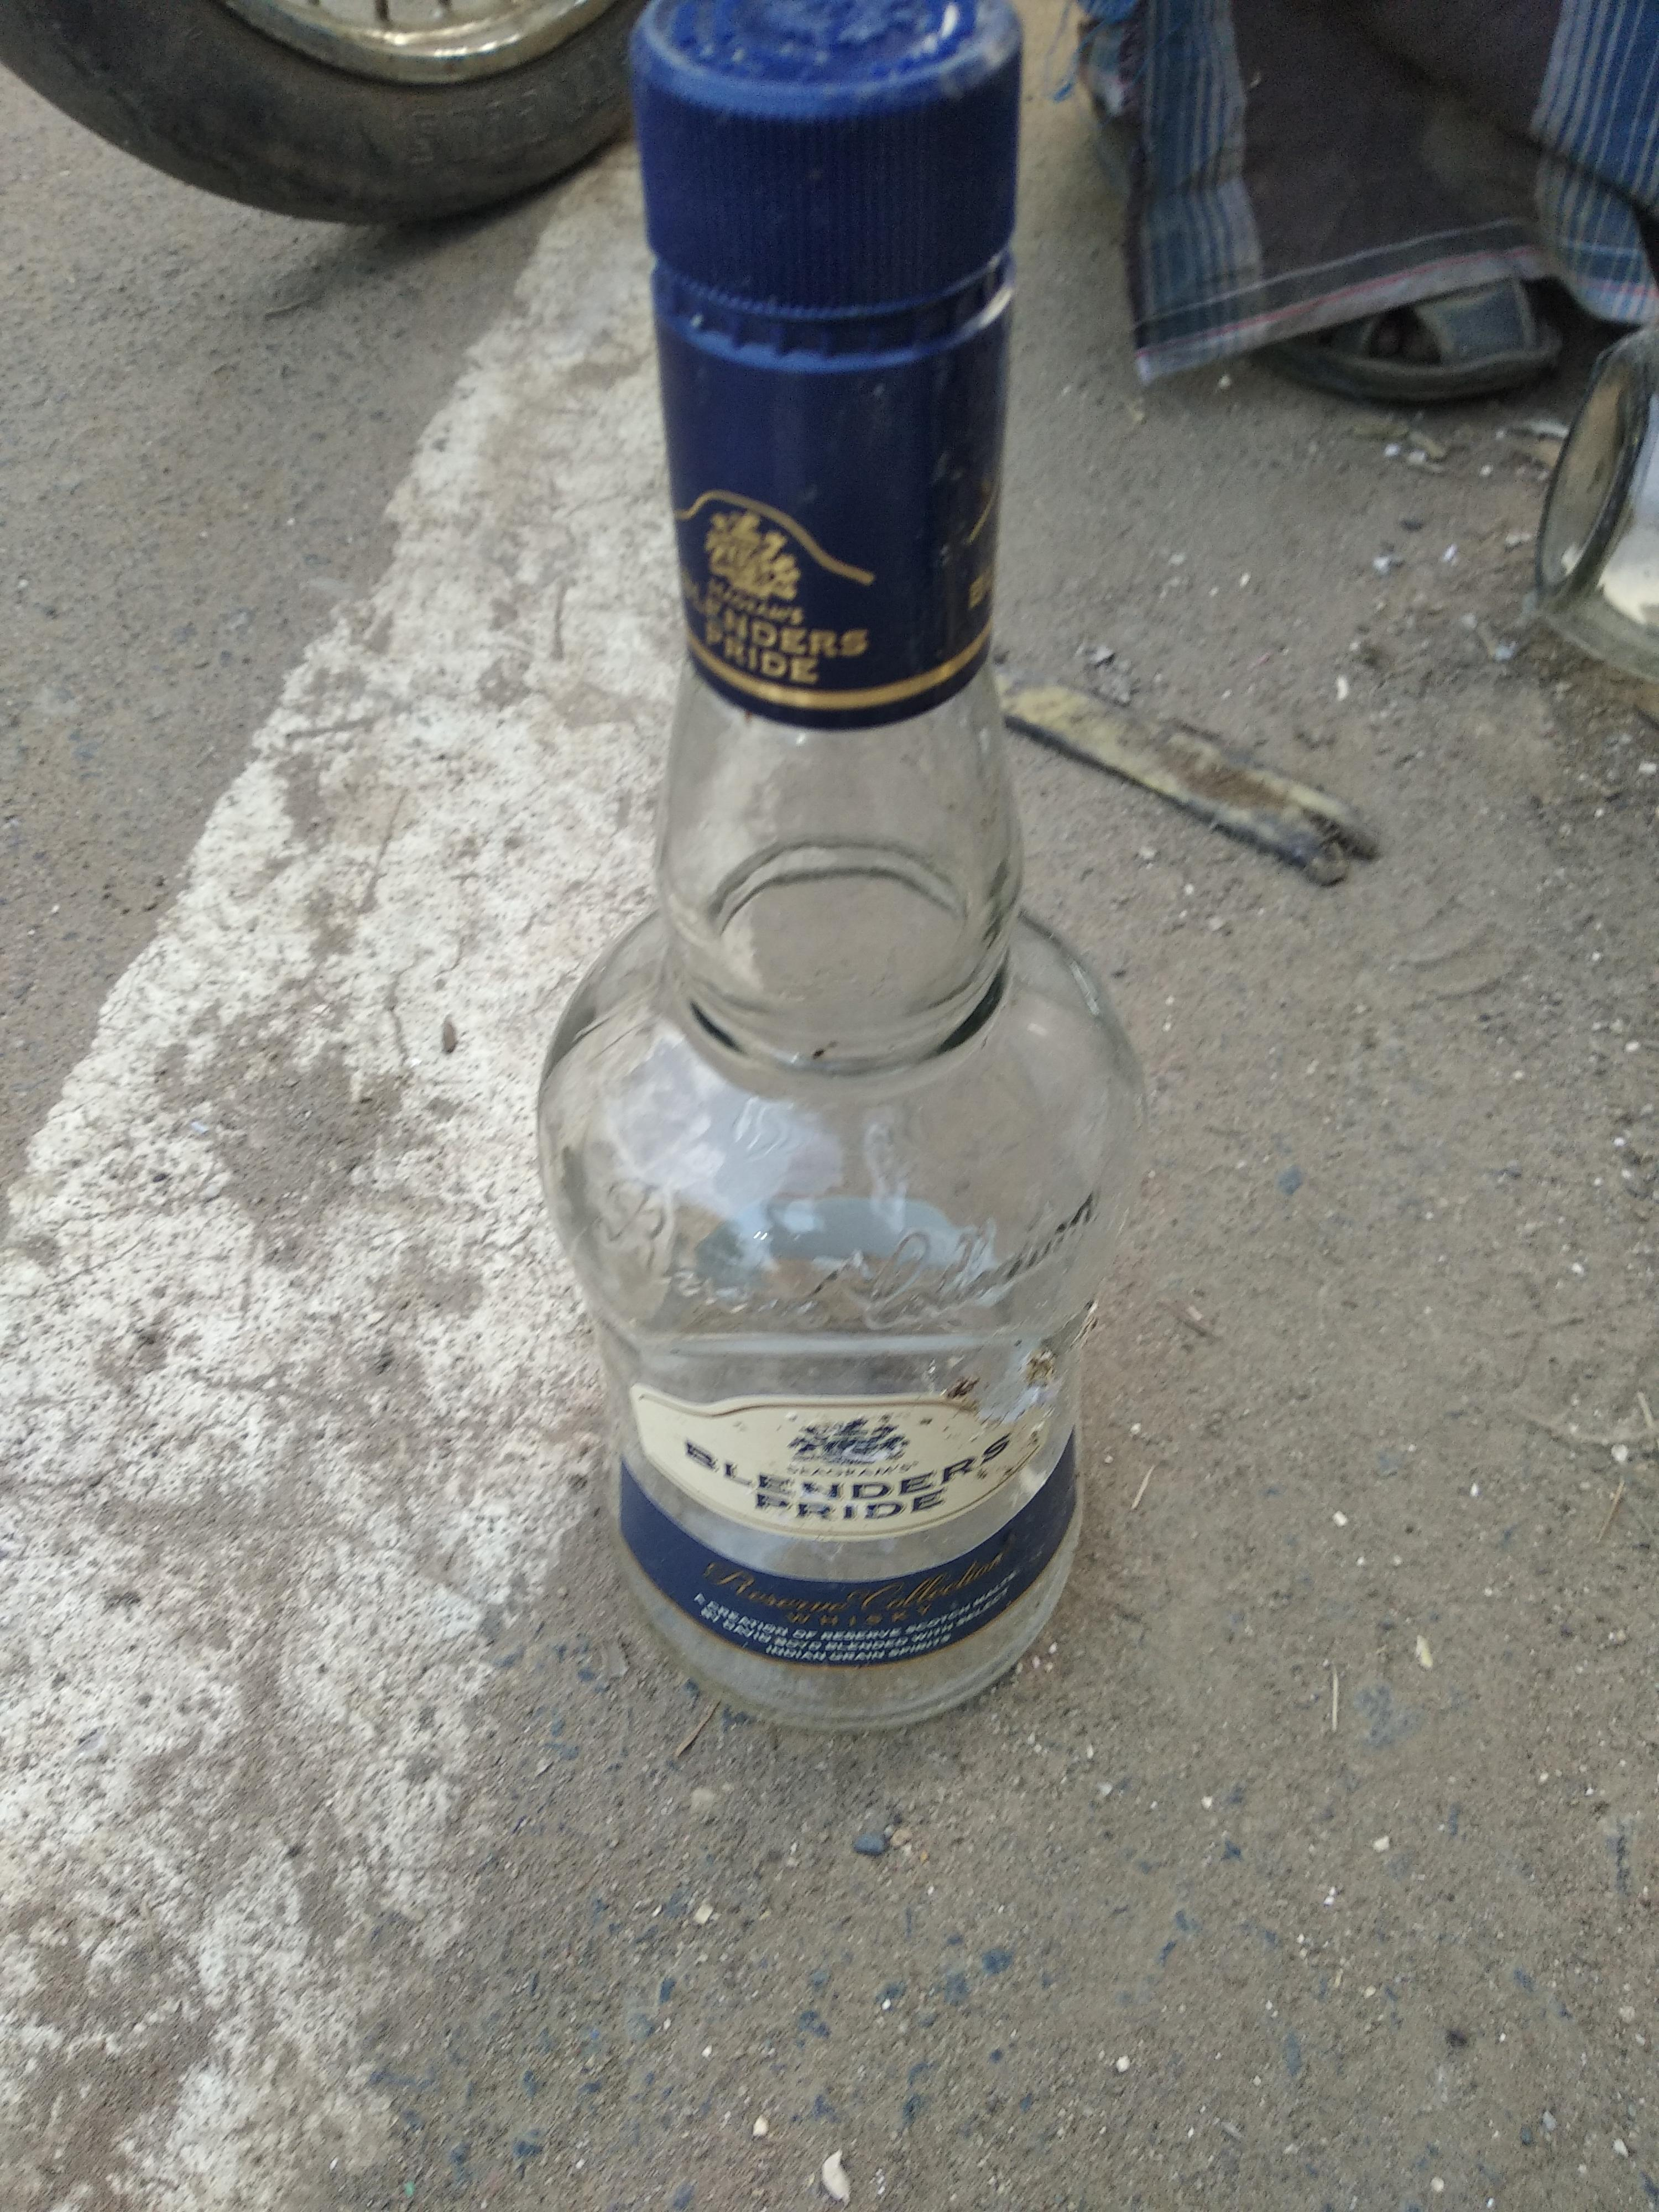organic: (502, 5, 1176, 1761)
